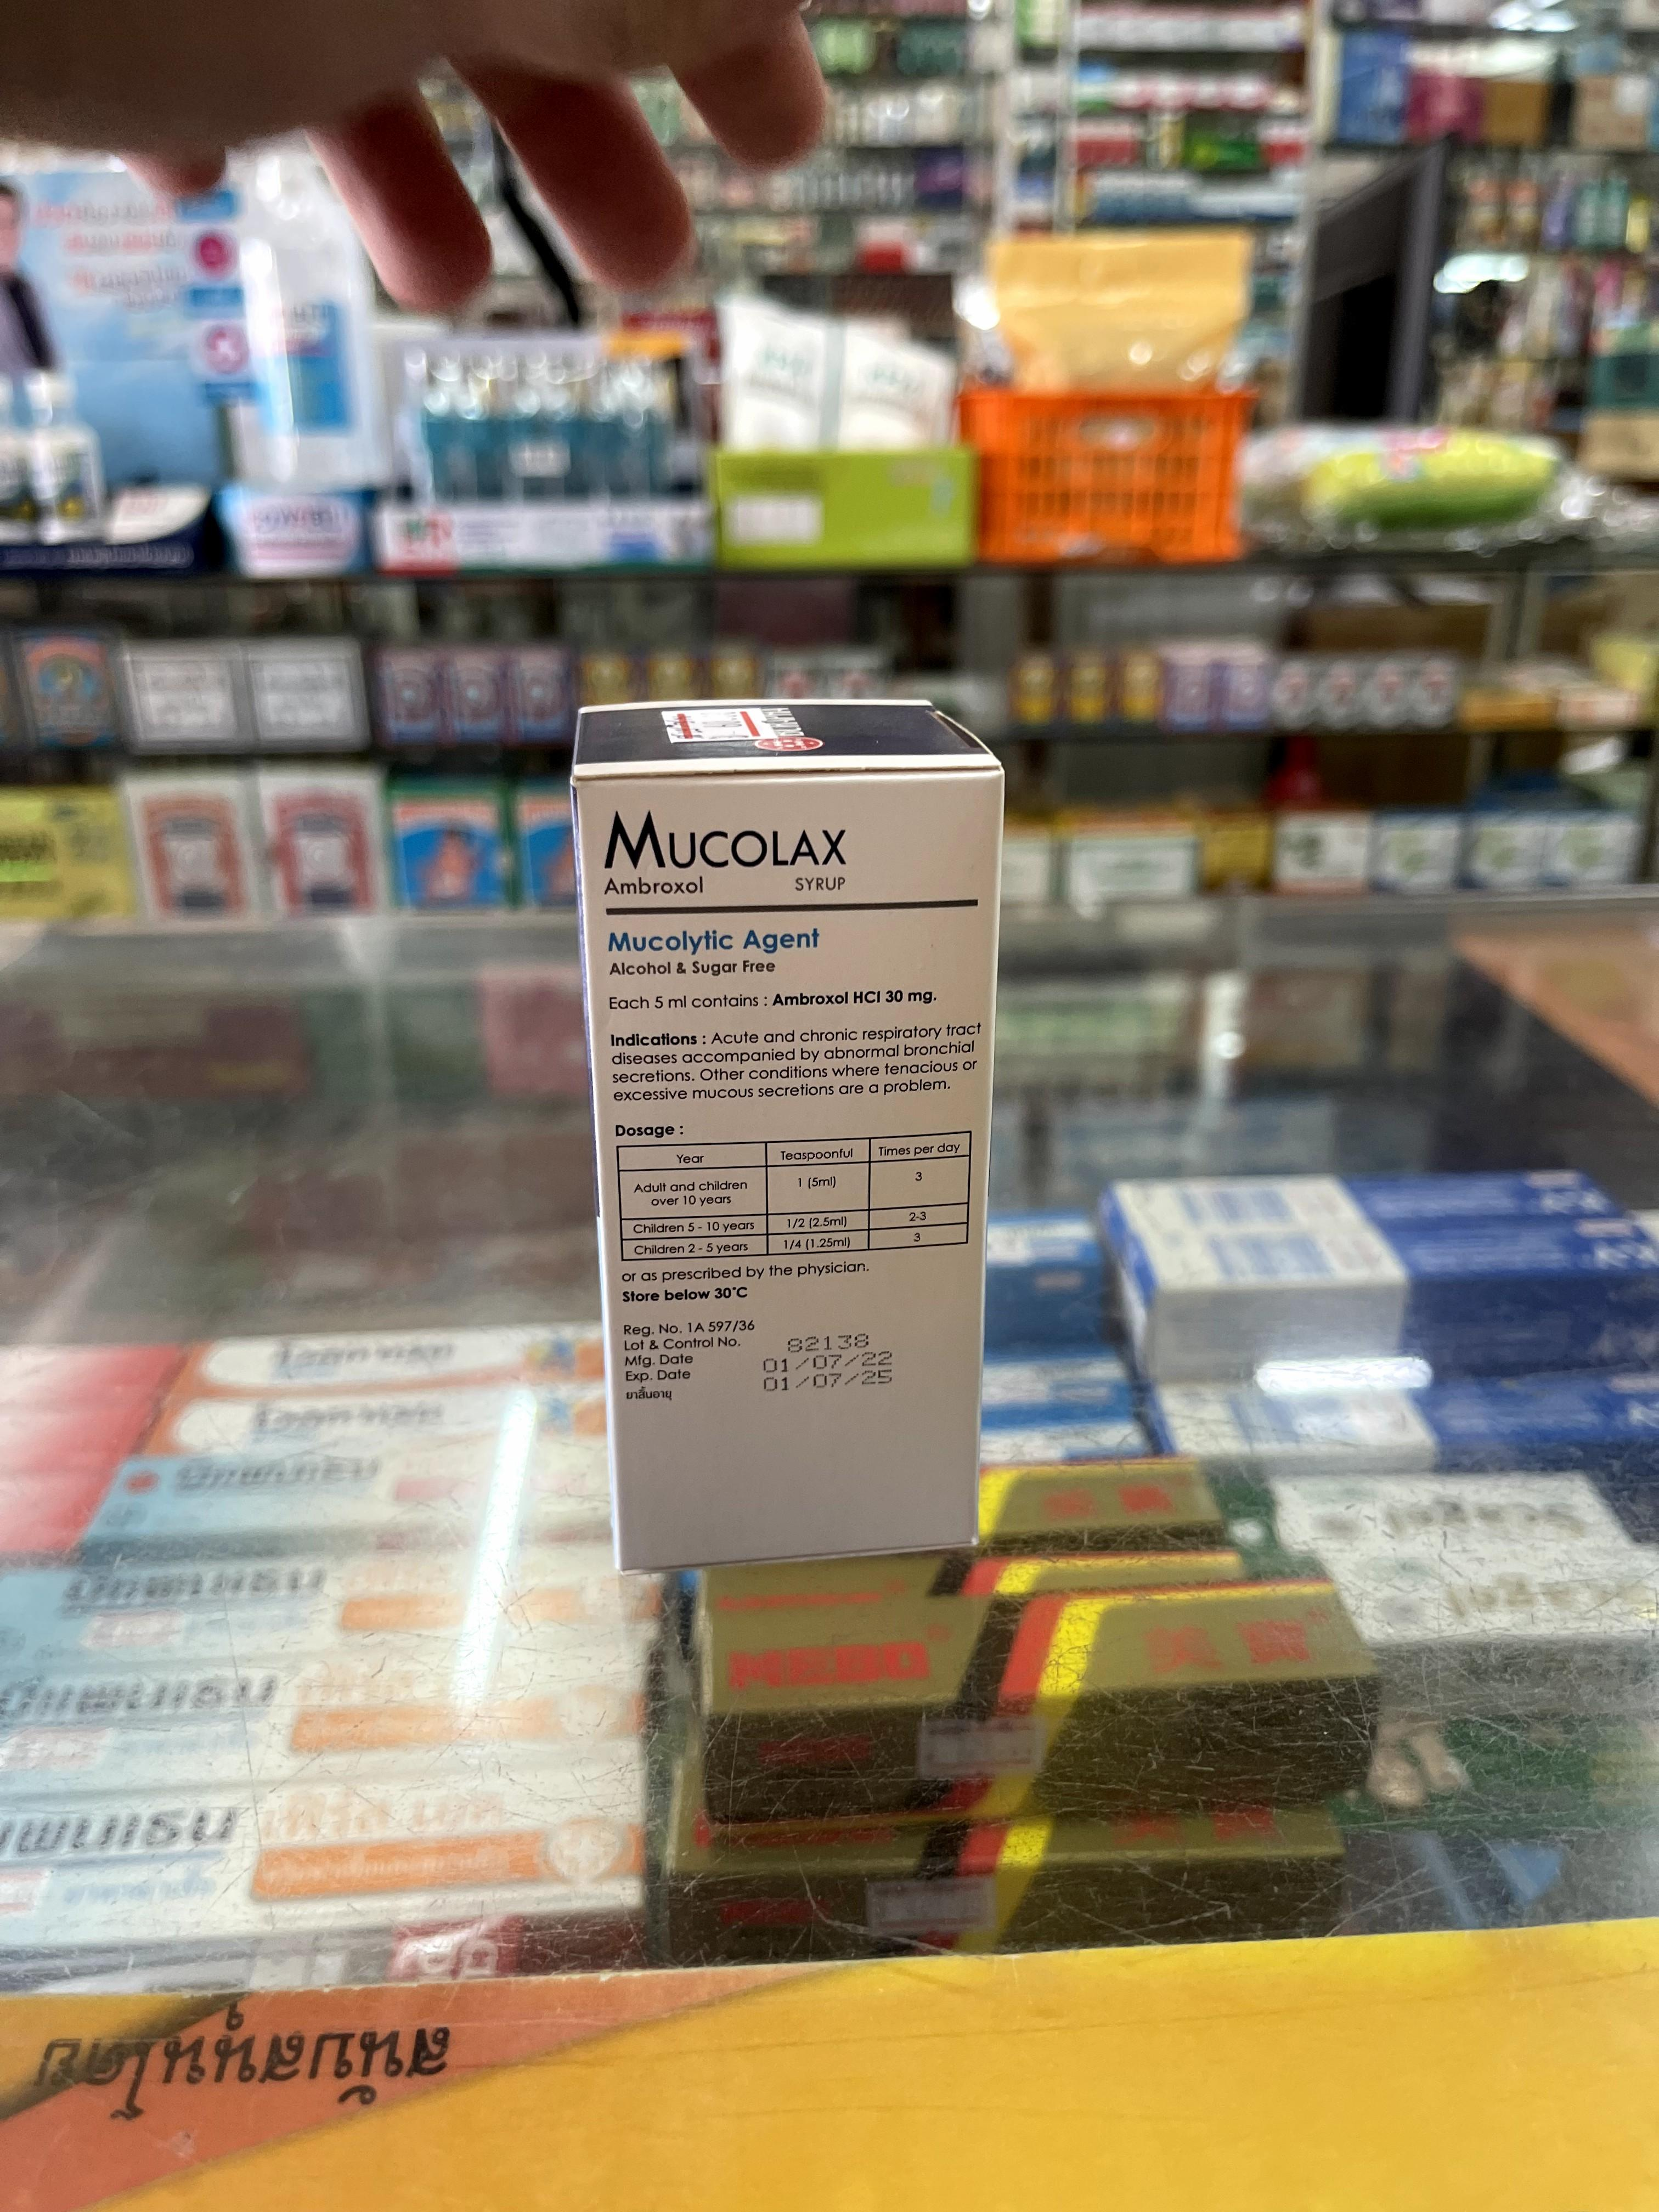Mucolax: (568, 690, 1007, 1578)
